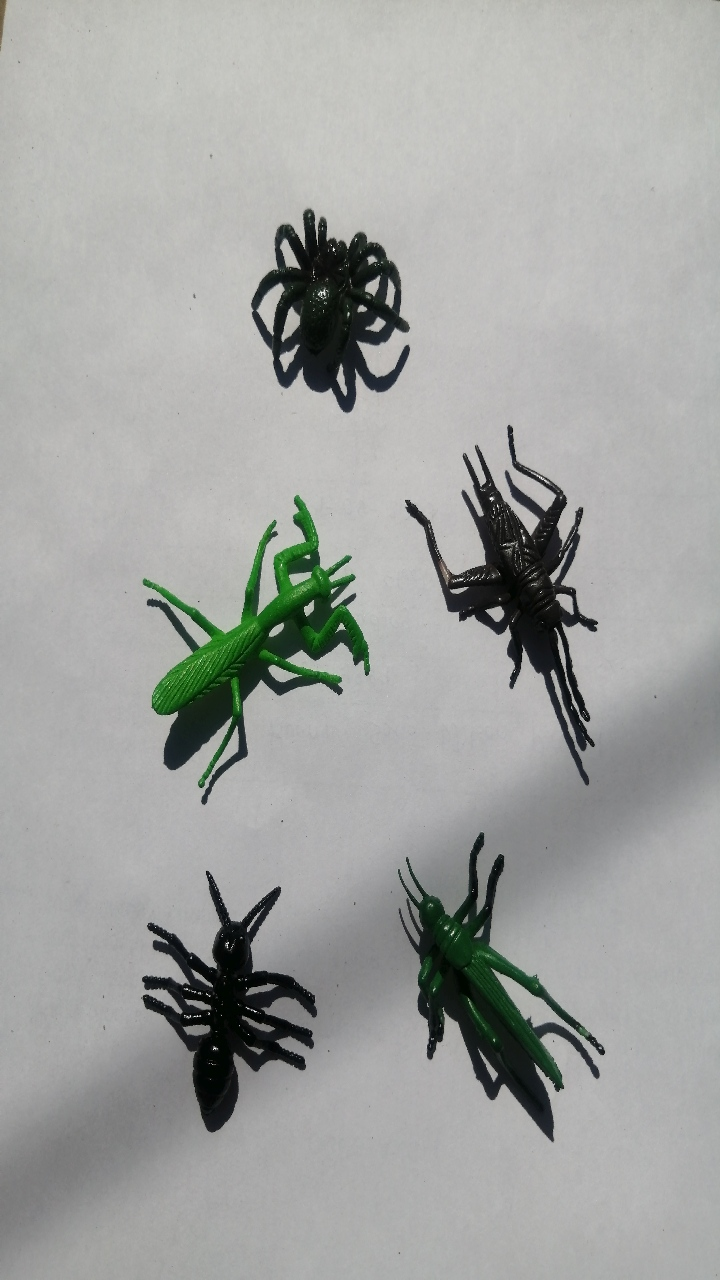intruso: (108, 459, 372, 814), (388, 402, 623, 759), (371, 817, 612, 1148), (120, 826, 346, 1151), (215, 155, 437, 426)
